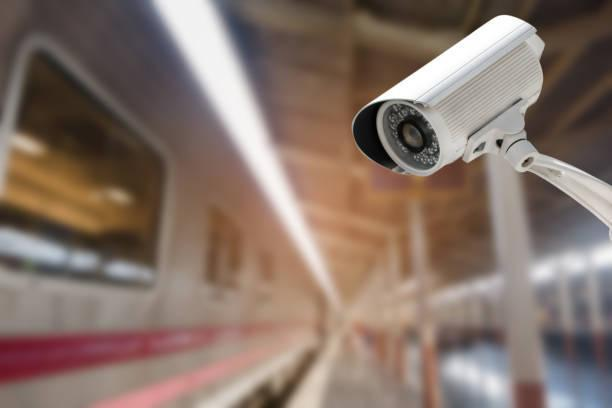camera: (335, 5, 592, 204)
